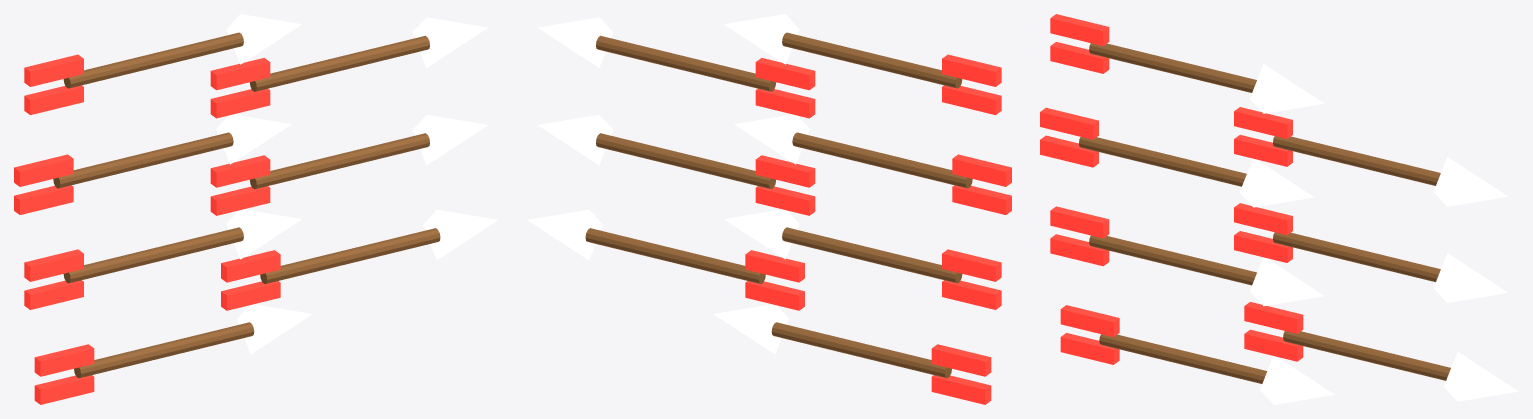
The model's file is effect-hold-the-line.glb.
3 views of the same model, side by side, from view 1: azimuth 30°, elevation 25°; view 2: azimuth 150°, elevation 25°; view 3: azimuth 330°, elevation 25° (orthographic).
Parts seen in each view (by area): view 1: HoldLine_ArrowShaft_3, HoldLine_ArrowShaft_1, HoldLine_ArrowShaft_6, HoldLine_ArrowShaft_7, HoldLine_ArrowShaft_2, HoldLine_ArrowShaft_5, HoldLine_ArrowShaft_4, HoldLine_ArrowTip_2, HoldLine_ArrowTip_4, HoldLine_ArrowTip_3, HoldLine_ArrowTip_5, HoldLine_ArrowTip_1 (+16 smaller); view 2: HoldLine_ArrowShaft_3, HoldLine_ArrowShaft_1, HoldLine_ArrowShaft_6, HoldLine_ArrowShaft_7, HoldLine_ArrowShaft_2, HoldLine_ArrowShaft_5, HoldLine_ArrowShaft_4, HoldLine_ArrowTip_2, HoldLine_ArrowTip_4, HoldLine_ArrowTip_3, HoldLine_ArrowTip_5, HoldLine_ArrowTip_1 (+16 smaller); view 3: HoldLine_ArrowShaft_1, HoldLine_ArrowShaft_6, HoldLine_ArrowShaft_7, HoldLine_ArrowShaft_3, HoldLine_ArrowShaft_2, HoldLine_ArrowShaft_4, HoldLine_ArrowShaft_5, HoldLine_ArrowTip_1, HoldLine_ArrowTip_7, HoldLine_ArrowTip_2, HoldLine_ArrowTip_5, HoldLine_ArrowTip_3 (+16 smaller).
Boxes of the visible parts, box(x1,y1,x2,y2) form: HoldLine_ArrowShaft_3: box(53, 132, 233, 188); HoldLine_ArrowShaft_1: box(63, 32, 243, 88); HoldLine_ArrowShaft_6: box(260, 228, 440, 283); HoldLine_ArrowShaft_7: box(74, 322, 254, 378); HoldLine_ArrowShaft_2: box(249, 35, 429, 91); HoldLine_ArrowShaft_5: box(63, 227, 243, 283); HoldLine_ArrowShaft_4: box(250, 133, 429, 189); HoldLine_ArrowTip_2: box(412, 17, 488, 67); HoldLine_ArrowTip_4: box(412, 114, 487, 165); HoldLine_ArrowTip_3: box(216, 114, 291, 164); HoldLine_ArrowTip_5: box(226, 209, 301, 259); HoldLine_ArrowTip_1: box(226, 14, 301, 64); HoldLine_ArrowShaft_3: box(792, 132, 972, 188); HoldLine_ArrowShaft_1: box(782, 32, 962, 88); HoldLine_ArrowShaft_6: box(585, 228, 765, 283); HoldLine_ArrowShaft_7: box(771, 322, 951, 378); HoldLine_ArrowShaft_2: box(596, 35, 776, 91); HoldLine_ArrowShaft_5: box(782, 227, 962, 283); HoldLine_ArrowShaft_4: box(596, 133, 775, 189); HoldLine_ArrowTip_2: box(537, 17, 613, 67); HoldLine_ArrowTip_4: box(538, 114, 613, 165); HoldLine_ArrowTip_3: box(734, 114, 809, 164); HoldLine_ArrowTip_5: box(724, 209, 799, 259); HoldLine_ArrowTip_1: box(724, 14, 799, 64); HoldLine_ArrowShaft_1: box(1089, 43, 1256, 92); HoldLine_ArrowShaft_6: box(1283, 331, 1450, 380); HoldLine_ArrowShaft_7: box(1099, 334, 1267, 383); HoldLine_ArrowShaft_3: box(1079, 137, 1246, 186); HoldLine_ArrowShaft_2: box(1273, 136, 1440, 185); HoldLine_ArrowShaft_4: box(1273, 232, 1440, 282); HoldLine_ArrowShaft_5: box(1089, 235, 1256, 285); HoldLine_ArrowTip_1: box(1250, 64, 1324, 113); HoldLine_ArrowTip_7: box(1260, 356, 1334, 404); HoldLine_ArrowTip_2: box(1433, 157, 1508, 206); HoldLine_ArrowTip_5: box(1250, 257, 1324, 306); HoldLine_ArrowTip_3: box(1239, 158, 1314, 207).
Bounding box in the file's own units: 0.7456 × 0.5072 × 0.0752.
